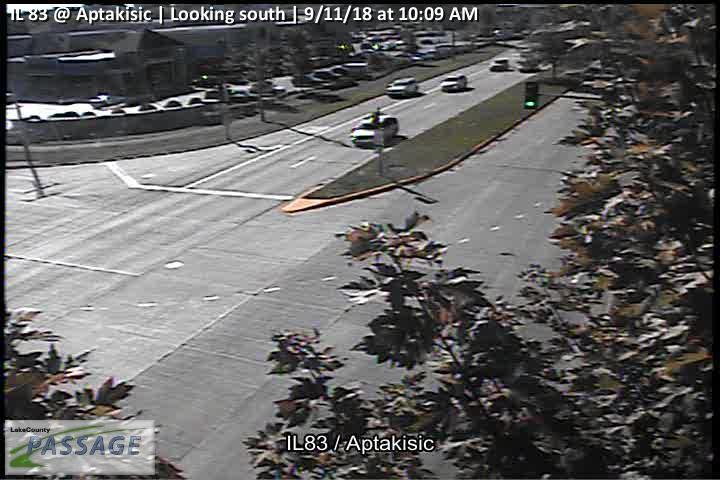SUV: (349, 114, 399, 148), (384, 78, 418, 97)
Sedan: (439, 73, 468, 92), (489, 58, 510, 72)
